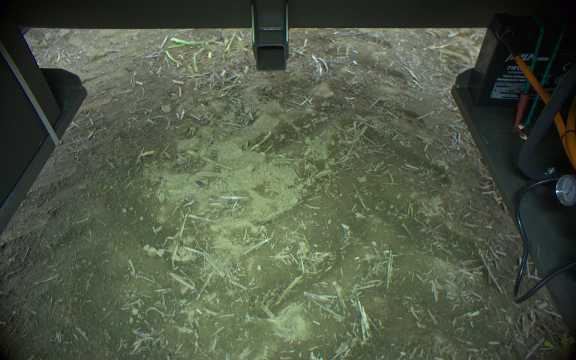aspa: (170, 35, 209, 48)
